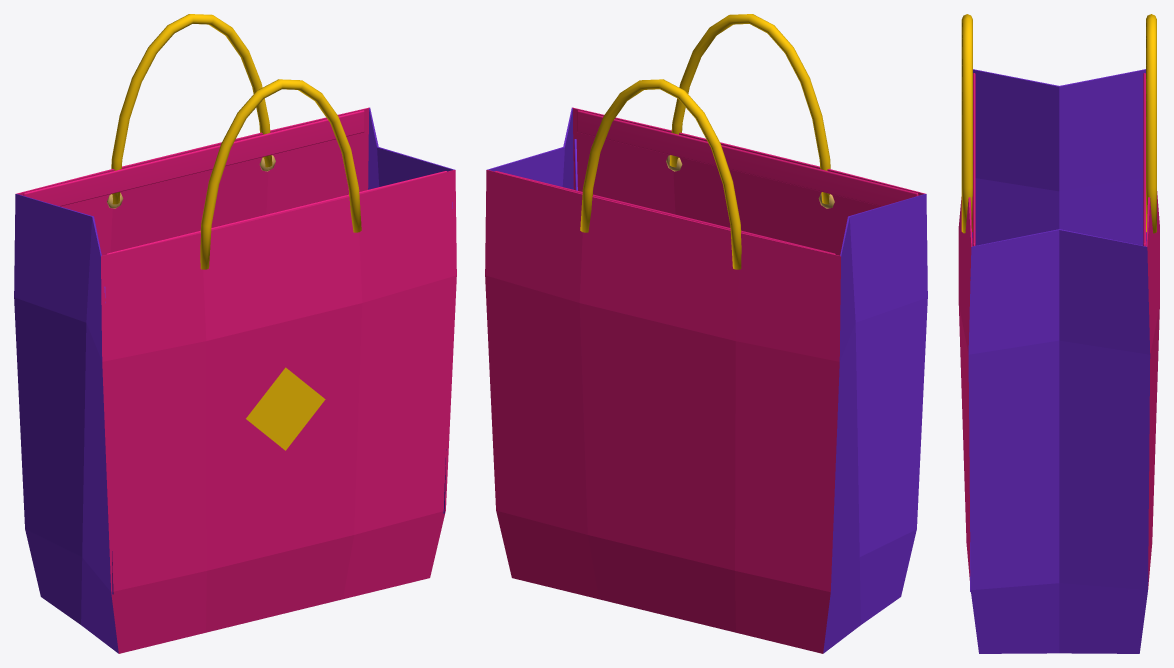
Rendered from 06_Shopping_Bag.glb.
3 views of the same model, side by side, from view 1: azimuth 30°, elevation 25°; view 2: azimuth 150°, elevation 25°; view 3: azimuth 270°, elevation 25° (orthographic). The views are drawn at different scales.
Visible parts, largest first — view 1: 06_Shopping_Bag_EXPORT; view 2: 06_Shopping_Bag_EXPORT; view 3: 06_Shopping_Bag_EXPORT.
Part boxes in pixels (x1,y1,x2,y2): 06_Shopping_Bag_EXPORT: (14, 14, 456, 653); 06_Shopping_Bag_EXPORT: (485, 14, 927, 653); 06_Shopping_Bag_EXPORT: (958, 14, 1159, 653).
Bounding box in the file's own units: 0.4832 × 0.704 × 0.2336.
